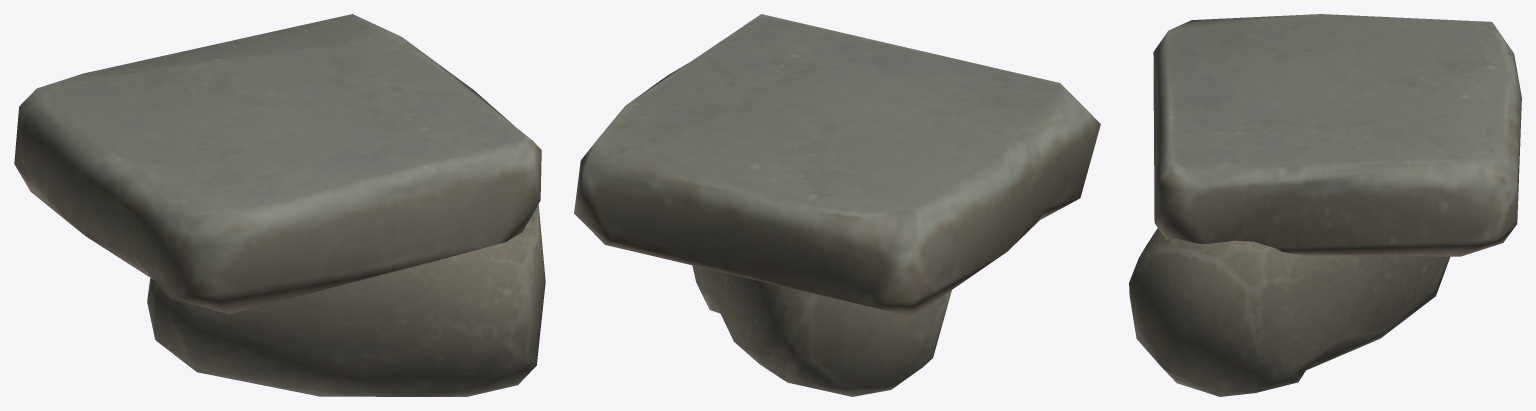
Rendered from SM_FW01_Ruins_Int_Trim_A_Corner_01.fbx.
3 renders of one model, left to right at view 1: azimuth 30°, elevation 25°; view 2: azimuth 150°, elevation 25°; view 3: azimuth 270°, elevation 25°, orthographic. The views are drawn at different scales.
Visible parts, largest first — view 1: SM_FW01_Ruins_Int_Trim_A_Corner_01_LOD0; view 2: SM_FW01_Ruins_Int_Trim_A_Corner_01_LOD0; view 3: SM_FW01_Ruins_Int_Trim_A_Corner_01_LOD0.
Boxes of the visible parts, bbox=[...] form: SM_FW01_Ruins_Int_Trim_A_Corner_01_LOD0: bbox=[14, 14, 545, 396]; SM_FW01_Ruins_Int_Trim_A_Corner_01_LOD0: bbox=[574, 14, 1100, 396]; SM_FW01_Ruins_Int_Trim_A_Corner_01_LOD0: bbox=[1129, 14, 1521, 396].
Size of what is drawn, in the model's own units: 0.6718 by 0.4227 by 0.64.
